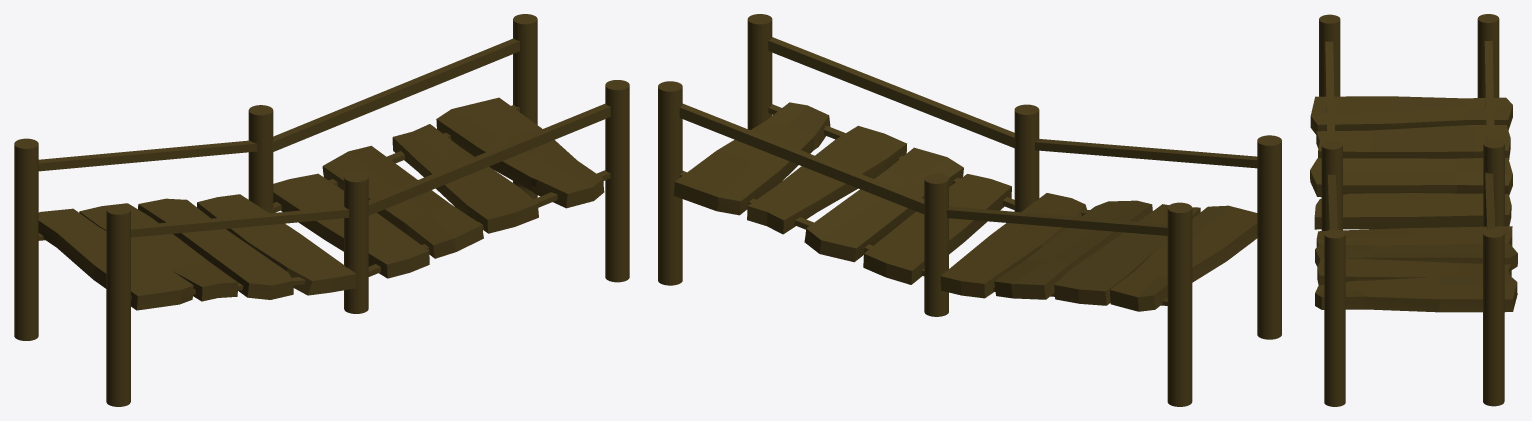
Rendered from Bridge.fbx.
3 renders of one model, left to right at view 1: azimuth 30°, elevation 25°; view 2: azimuth 150°, elevation 25°; view 3: azimuth 270°, elevation 25°, orthographic. The views are drawn at different scales.
Parts seen in each view (by area): view 1: Cube.834, Cube.832, Cube.831, Cube.835, Cube.833, Cube.836, Cube.837, Cylinder.351, Cylinder.350, Cylinder.347, Cube.846, Cube.838 (+6 smaller); view 2: Cube.834, Cube.832, Cube.831, Cube.835, Cube.833, Cube.836, Cube.837, Cylinder.350, Cylinder.351, Cylinder.348, Cube.838, Cube.845 (+6 smaller); view 3: Cube.835, Cube.837, Cube.836, Cube.834, Cube.838, Cylinder.348, Cylinder.347, Cube.832, Cube.831, Cube.833, Cylinder.349, Cylinder.346 (+6 smaller).
Boxes of the visible parts, x1,y1,x2,y2 form: Cube.834: [436, 97, 604, 208]; Cube.832: [322, 145, 483, 258]; Cube.831: [392, 124, 538, 233]; Cube.835: [38, 208, 193, 310]; Cube.833: [273, 173, 429, 278]; Cube.836: [197, 194, 356, 295]; Cube.837: [138, 198, 293, 299]; Cylinder.351: [106, 204, 130, 406]; Cylinder.350: [14, 138, 38, 340]; Cylinder.347: [605, 80, 629, 282]; Cube.846: [272, 38, 519, 152]; Cube.838: [79, 203, 238, 301]; Cube.834: [673, 102, 830, 215]; Cube.832: [804, 147, 963, 262]; Cube.831: [747, 125, 906, 234]; Cube.835: [1110, 205, 1257, 311]; Cube.833: [863, 174, 1011, 284]; Cube.836: [940, 193, 1086, 298]; Cube.837: [994, 200, 1152, 299]; Cylinder.350: [1167, 202, 1192, 406]; Cylinder.351: [1257, 135, 1281, 339]; Cylinder.348: [658, 81, 682, 285]; Cube.838: [1054, 204, 1200, 305]; Cube.845: [768, 37, 1014, 148]; Cube.835: [1310, 96, 1512, 134]; Cube.837: [1310, 157, 1512, 197]; Cube.836: [1314, 193, 1511, 229]; Cube.834: [1315, 276, 1517, 312]; Cube.838: [1316, 125, 1510, 159]; Cylinder.348: [1483, 228, 1504, 406]; Cylinder.347: [1324, 229, 1345, 406]; Cube.832: [1315, 244, 1517, 269]; Cube.831: [1317, 258, 1511, 285]; Cube.833: [1316, 226, 1512, 246]; Cylinder.349: [1321, 140, 1342, 230]; Cylinder.346: [1483, 139, 1504, 226].
Bounding box in the file's own units: 2277 × 797 × 891.
